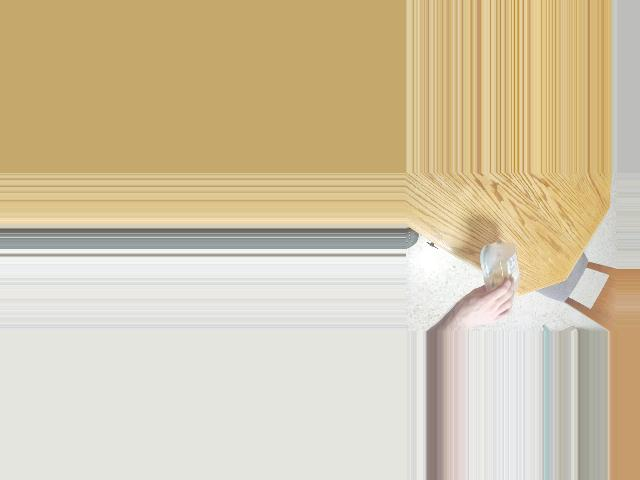cheese: (474, 250, 523, 309)
